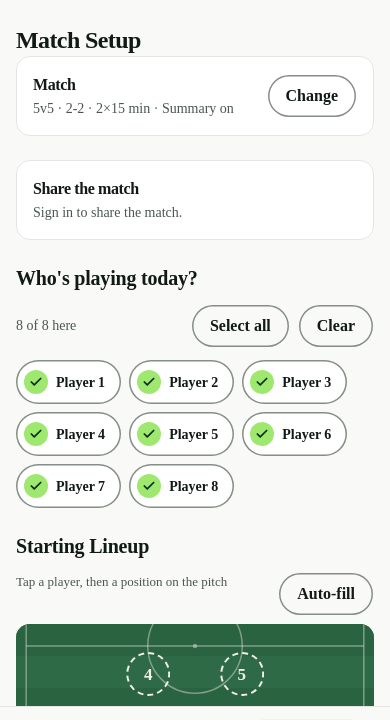
Test case: MatchSetupManager attendance and preselection (U9) › keeps the match settings collapsed by default, even without team defaults
Expected: the button "7v7" is not shown
Expected: the text "5v5" is shown, [33,101,54,116]
Click the button "Change" at [312, 96], box [266,74,357,118]
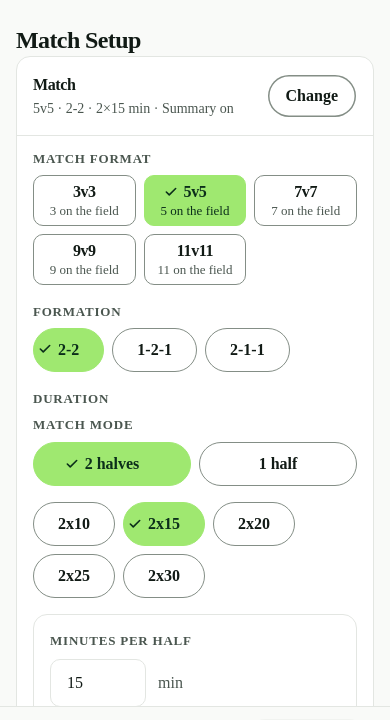
Expected: the button "7v7 7 on the field" is shown, [254,175,357,226]
